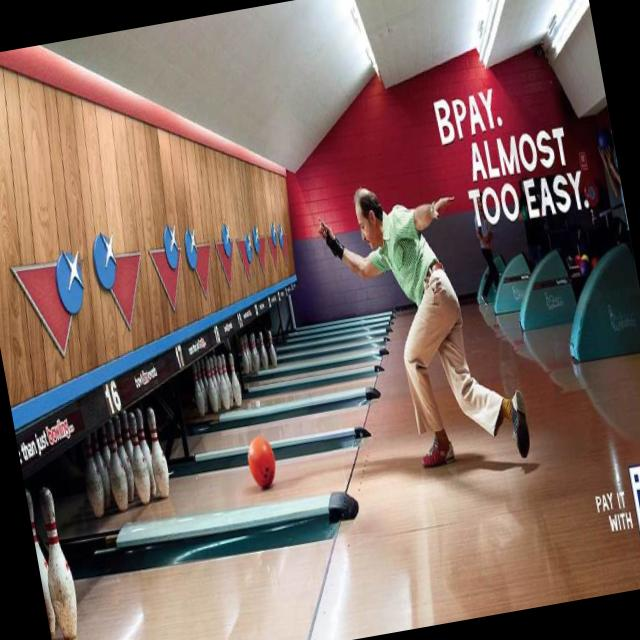Ball: (244, 433, 279, 488), (563, 243, 604, 284), (518, 206, 532, 222)
